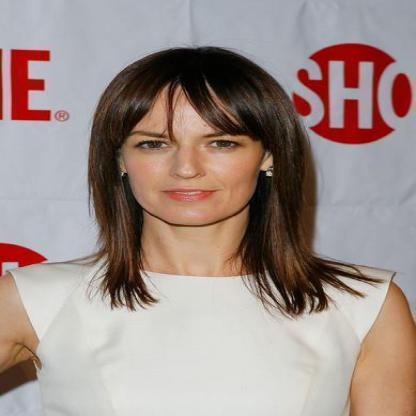long-hair: (63, 227, 337, 286)
